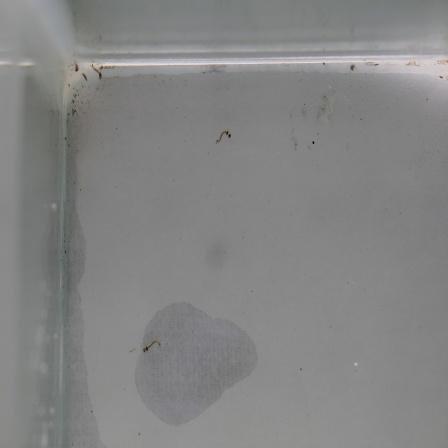Jentik-Nyamuk: (211, 125, 236, 148), (139, 336, 163, 358), (88, 59, 105, 82)
